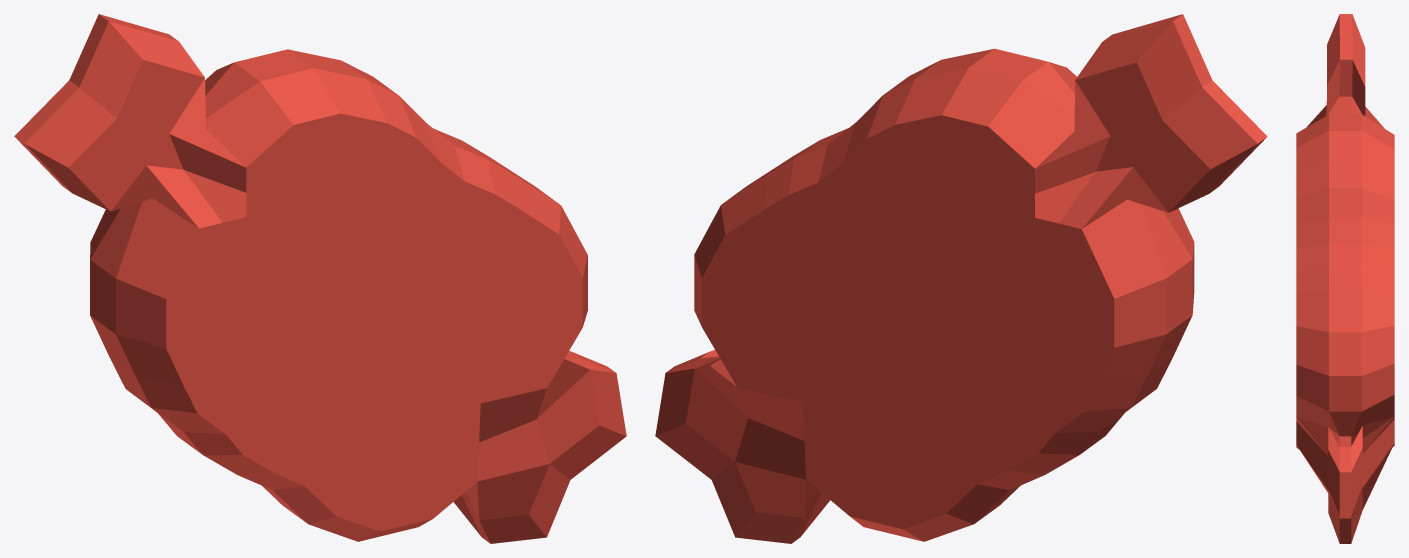
The model's file is meat.fbx.
The picture shows the model from 3 angles, left to right: view 1: azimuth 30°, elevation 25°; view 2: azimuth 150°, elevation 25°; view 3: azimuth 270°, elevation 25°; orthographic projection. The views are drawn at different scales.
Parts seen in each view (by area): view 1: Meat; view 2: Meat; view 3: Meat.
Part boxes in pixels (left/top/right/bottom): Meat: left=14, top=14, right=626, bottom=543; Meat: left=655, top=14, right=1267, bottom=543; Meat: left=1296, top=14, right=1394, bottom=543.
Bounding box in the file's own units: 462 × 456 × 103.
